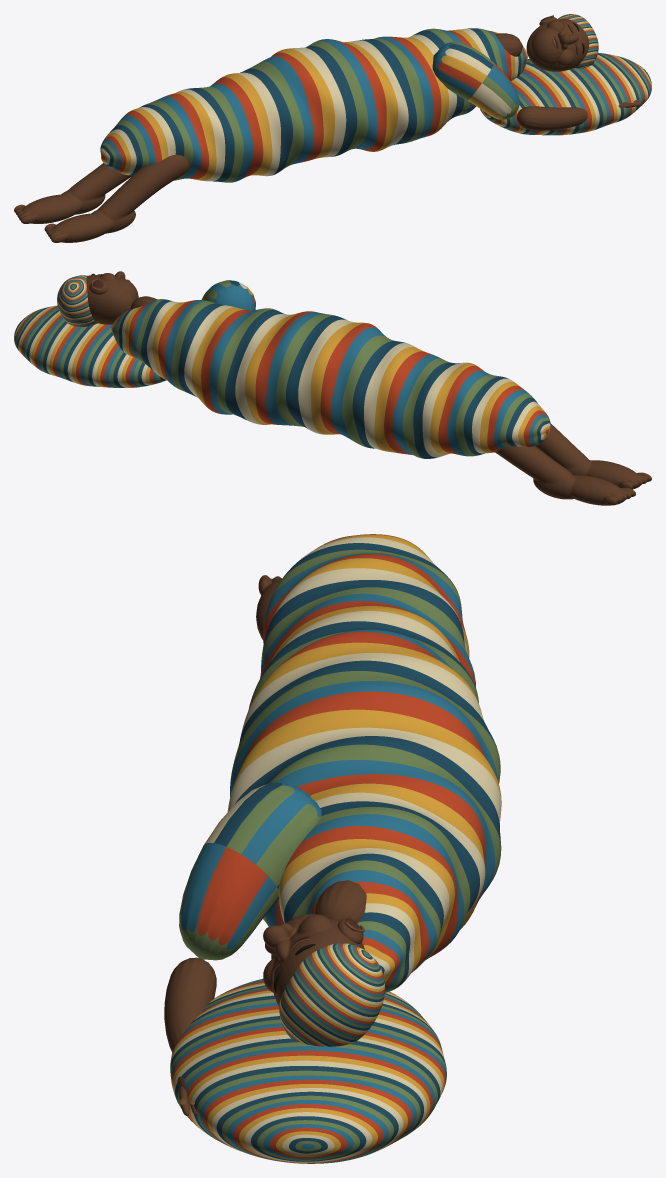
The model's file is sleeping-person.glb.
The picture shows the model from 3 angles, top to bottom: view 1: azimuth 30°, elevation 25°; view 2: azimuth 150°, elevation 25°; view 3: azimuth 270°, elevation 25°; orthographic projection. The views are drawn at different scales.
Parts seen in each view (by area): view 1: Sleeping person detailed mesh; view 2: Sleeping person detailed mesh; view 3: Sleeping person detailed mesh.
Part boxes in pixels (<box>): Sleeping person detailed mesh: <box>14,14,651,242</box>; Sleeping person detailed mesh: <box>14,271,651,505</box>; Sleeping person detailed mesh: <box>164,534,501,1163</box>.
Bounding box in the file's own units: 2.46 × 0.4472 × 0.5868.
